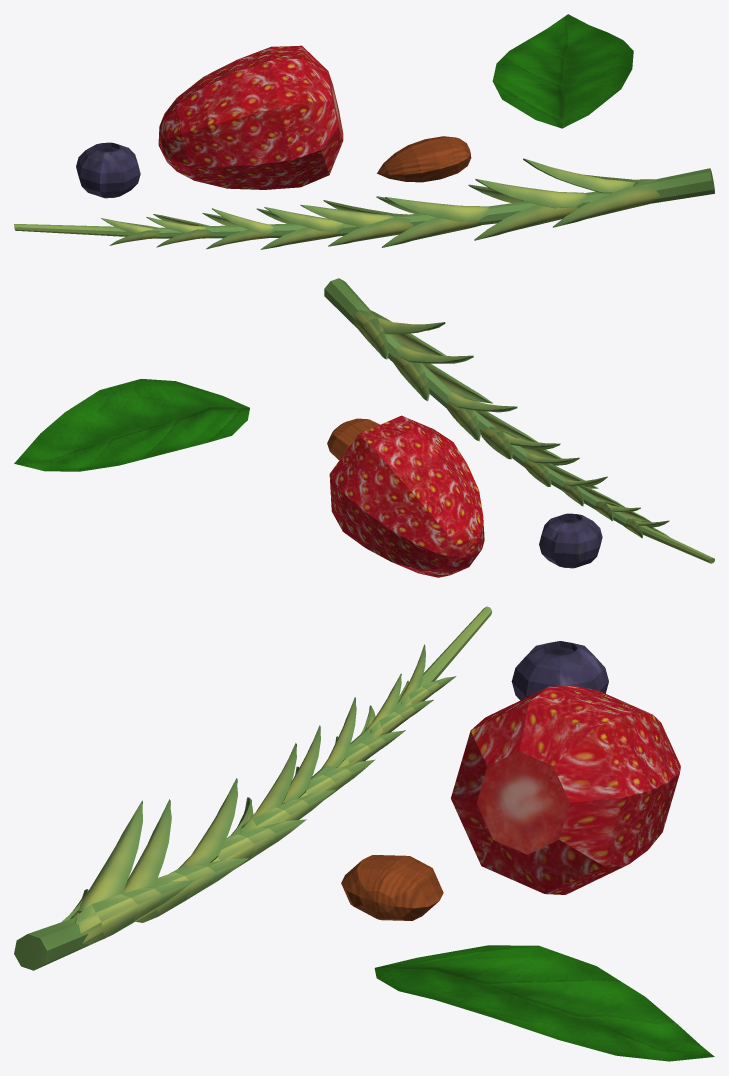
File: Small Shapes.fbx
The picture shows the model from 3 angles, top to bottom: view 1: azimuth 30°, elevation 25°; view 2: azimuth 150°, elevation 25°; view 3: azimuth 270°, elevation 25°; orthographic projection. The views are drawn at different scales.
Parts seen in each view (by area): view 1: polySurface3191, polySurface3192, polySurface3211, polySurface3190, polySurface3219; view 2: polySurface3191, polySurface3211, polySurface3192, polySurface3219, polySurface3190; view 3: polySurface3191, polySurface3192, polySurface3211, polySurface3190, polySurface3219.
Part boxes in pixels (x1=…): polySurface3191: x1=158, y1=45, x2=343, y2=189; polySurface3192: x1=14, y1=158, x2=714, y2=249; polySurface3211: x1=492, y1=14, x2=633, y2=128; polySurface3190: x1=377, y1=136, x2=471, y2=182; polySurface3219: x1=76, y1=142, x2=140, y2=198; polySurface3191: x1=329, y1=415, x2=484, y2=577; polySurface3211: x1=14, y1=379, x2=249, y2=471; polySurface3192: x1=324, y1=278, x2=714, y2=563; polySurface3219: x1=539, y1=513, x2=602, y2=568; polySurface3190: x1=327, y1=418, x2=379, y2=460; polySurface3191: x1=451, y1=685, x2=680, y2=894; polySurface3192: x1=14, y1=606, x2=491, y2=970; polySurface3211: x1=374, y1=945, x2=714, y2=1061; polySurface3190: x1=341, y1=855, x2=443, y2=920; polySurface3219: x1=511, y1=641, x2=608, y2=700.
Bounding box in the file's own units: 279 × 53.88 × 182.
Materials: 1 (1 with a texture image).
